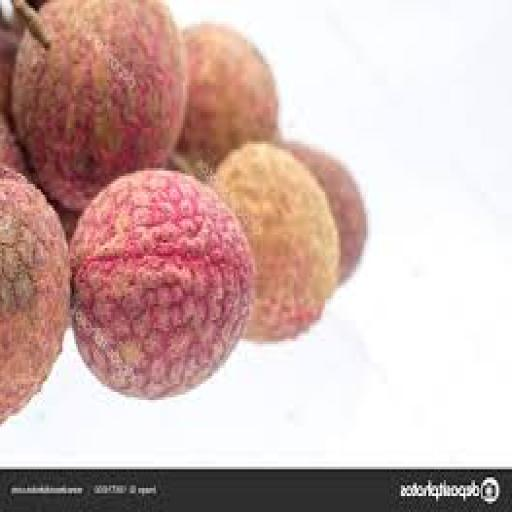lychee: (70, 171, 252, 399), (11, 0, 185, 210), (212, 144, 337, 341), (0, 168, 69, 421), (177, 24, 277, 170), (280, 142, 366, 282), (0, 115, 26, 173), (0, 30, 16, 114)
